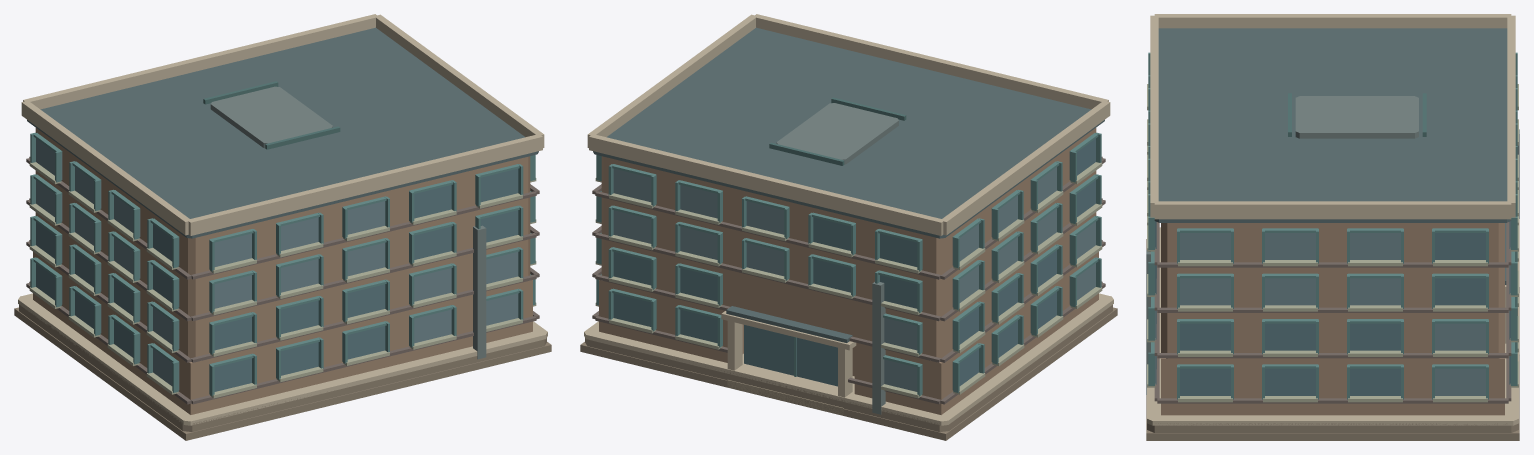
File: training.glb
3 views of the same model, side by side, from view 1: azimuth 30°, elevation 25°; view 2: azimuth 150°, elevation 25°; view 3: azimuth 270°, elevation 25° (orthographic). The views are drawn at different scales.
Visible parts, largest first — view 1: form, relief, glaze, glowing; view 2: form, relief, glaze, glowing; view 3: form, glaze, relief, glowing.
Boxes of the visible parts, x1=… form: form: x1=14, y1=14, x2=551, y2=440; relief: x1=29, y1=132, x2=536, y2=398; glaze: x1=36, y1=167, x2=518, y2=391; glowing: x1=36, y1=138, x2=518, y2=375; form: x1=580, y1=14, x2=1117, y2=440; relief: x1=595, y1=132, x2=1102, y2=398; glaze: x1=613, y1=138, x2=1095, y2=391; glowing: x1=613, y1=168, x2=1017, y2=361; form: x1=1146, y1=14, x2=1519, y2=440; glaze: x1=1155, y1=221, x2=1510, y2=395; relief: x1=1147, y1=52, x2=1518, y2=402; glowing: x1=1155, y1=221, x2=1510, y2=395.
Bounding box in the file's own units: 16 × 9 × 13.
